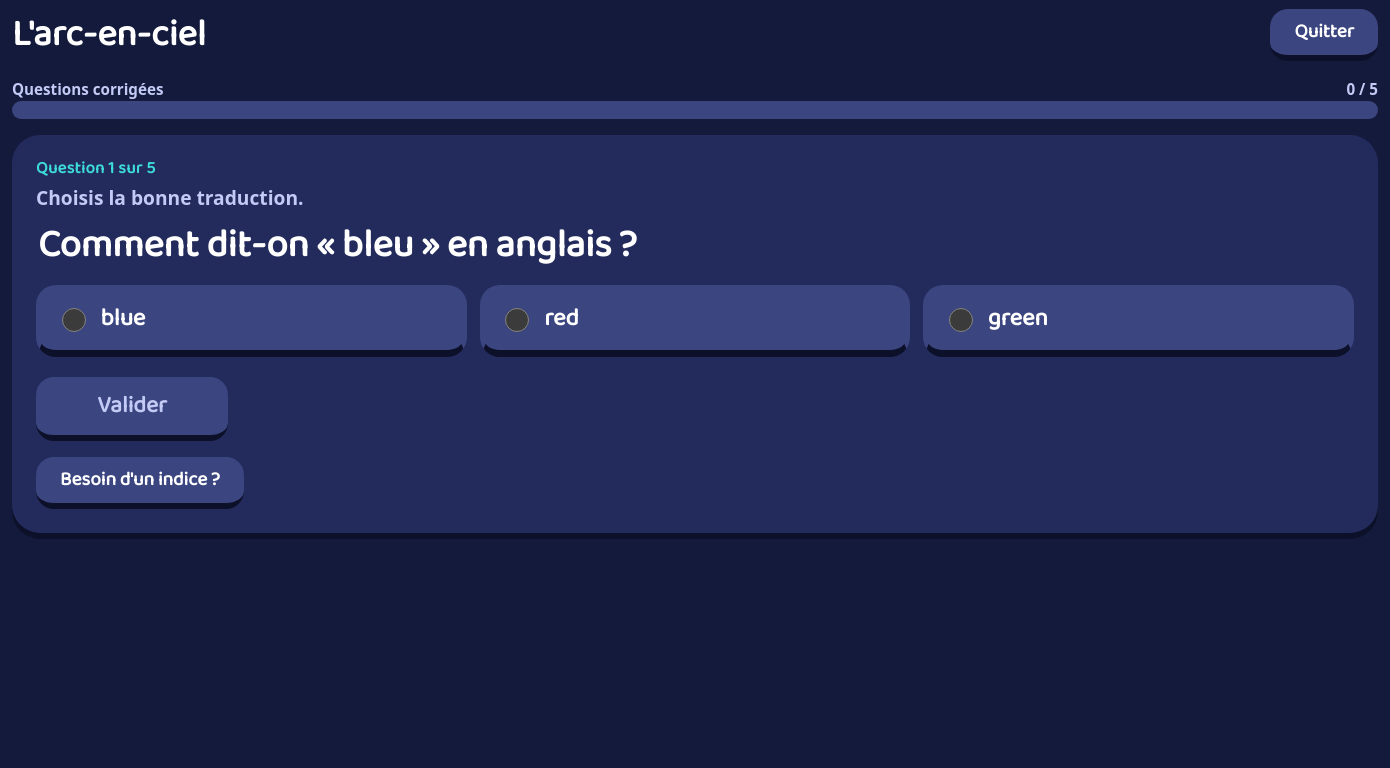
écran de mission › demande un indice et l’affiche
Click the button "Besoin d'un indice ?": x=140, y=483 [36,457,244,509]
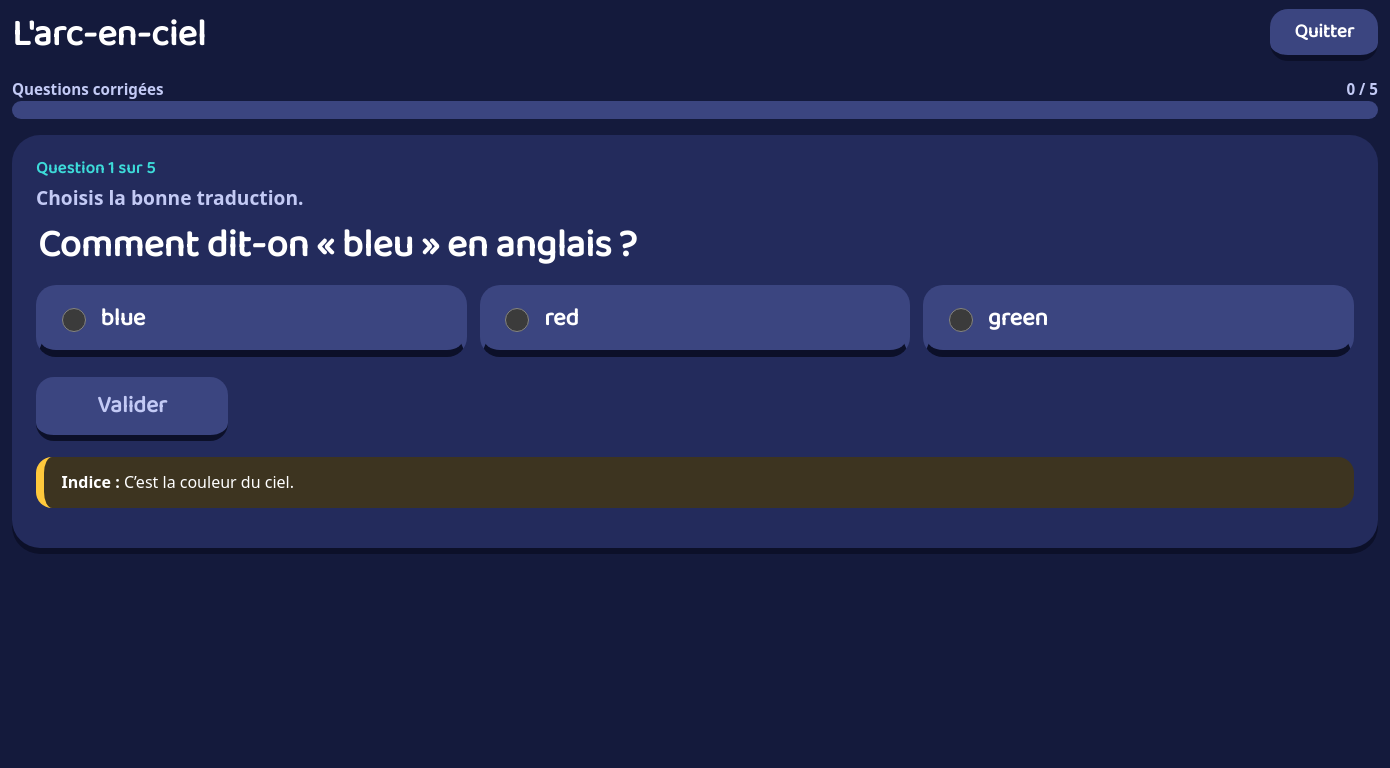
Expected: the text "C’est la couleur du ciel." is shown, [124,471,294,493]
